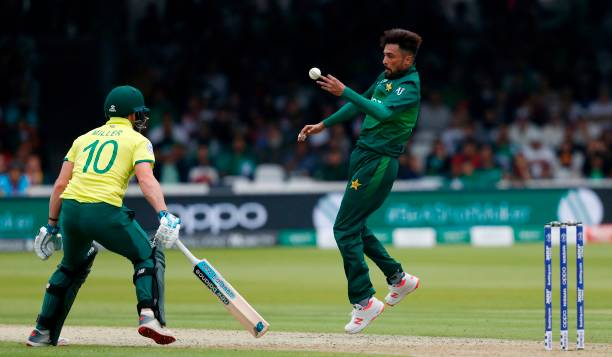bottom left: (259, 319, 273, 333)
bottom right: (248, 326, 264, 342)
top left: (199, 255, 212, 268)
top right: (188, 265, 204, 281)
